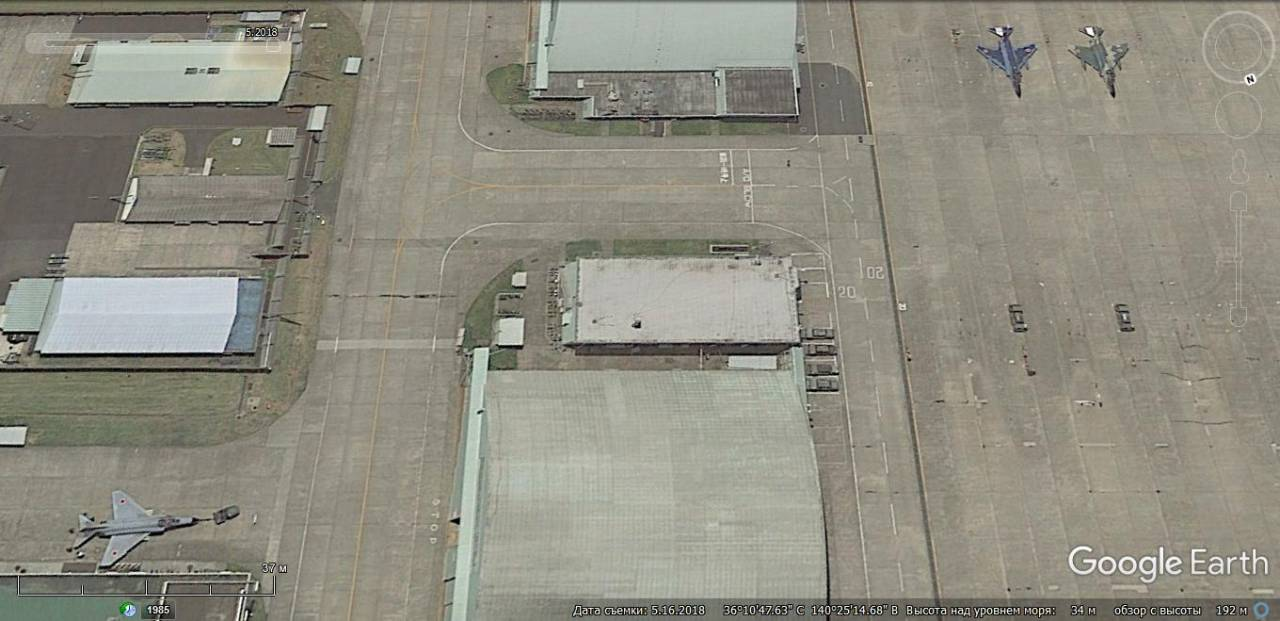F4: (72, 489, 200, 567), (975, 24, 1038, 98), (1066, 25, 1129, 99)
